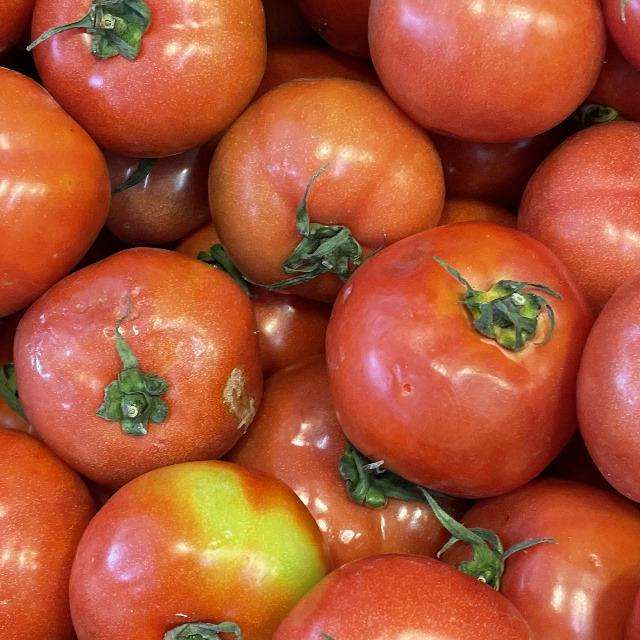tomato: (312, 175, 590, 500), (0, 212, 275, 485), (10, 0, 295, 165), (357, 0, 617, 152), (0, 37, 125, 332), (197, 545, 567, 640), (547, 230, 640, 520), (0, 395, 107, 640)
